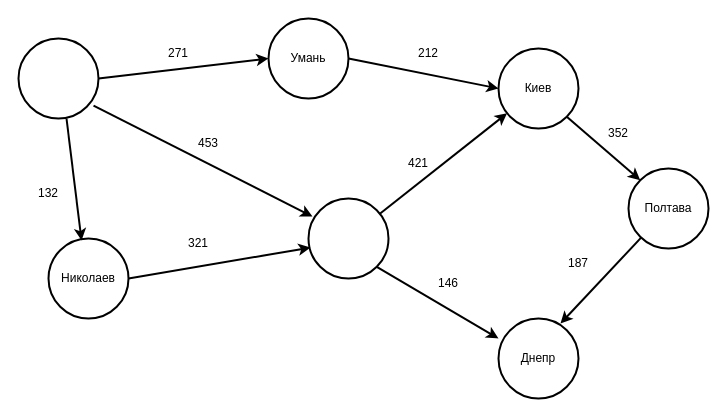
Some shapes in this 726 by 416 pixel diagram are drawn without their labels. The centre of each missing label's shape, as x and y in pixels:
"Кривой Рог" goes at point (348, 238).
"Одесса" goes at point (58, 78).
